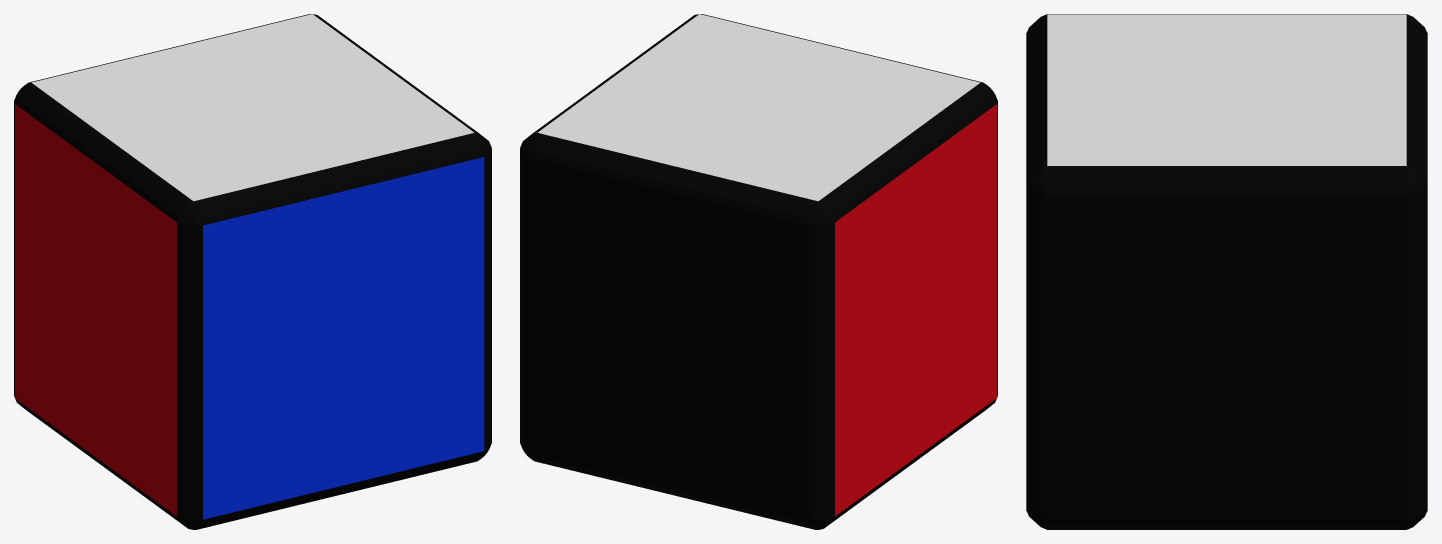
The model's file is RBW.glb.
3 views of the same model, side by side, from view 1: azimuth 30°, elevation 25°; view 2: azimuth 150°, elevation 25°; view 3: azimuth 270°, elevation 25° (orthographic). The views are drawn at different scales.
Parts seen in each view (by area): view 1: Cube; view 2: Cube; view 3: Cube.
Boxes of the visible parts, x1,y1,x2,y2 form: Cube: (14, 14, 491, 529); Cube: (520, 14, 997, 529); Cube: (1026, 14, 1427, 529).
Bounding box in the file's own units: 2 × 2 × 2.
